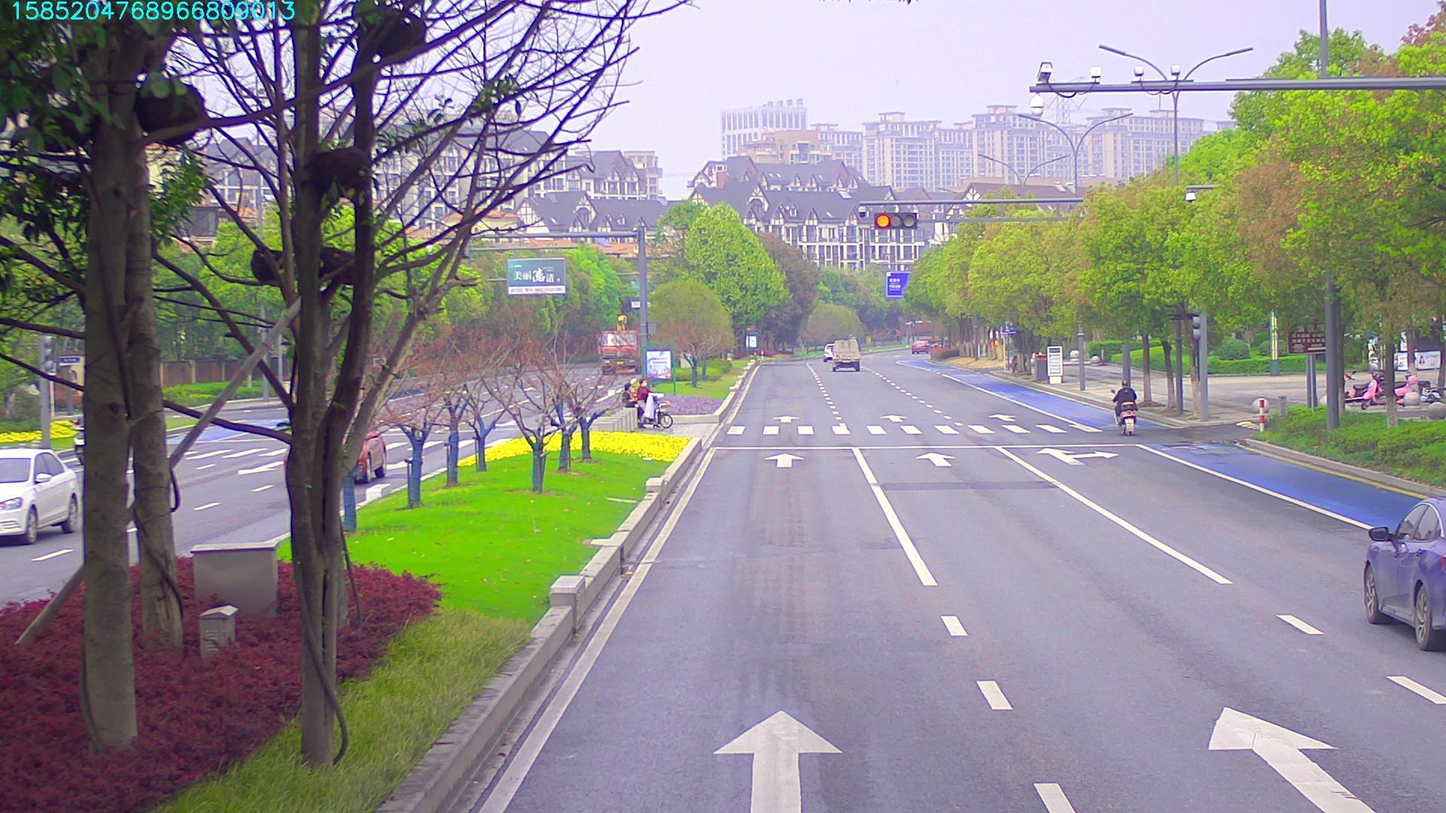red: (875, 209, 914, 227)
